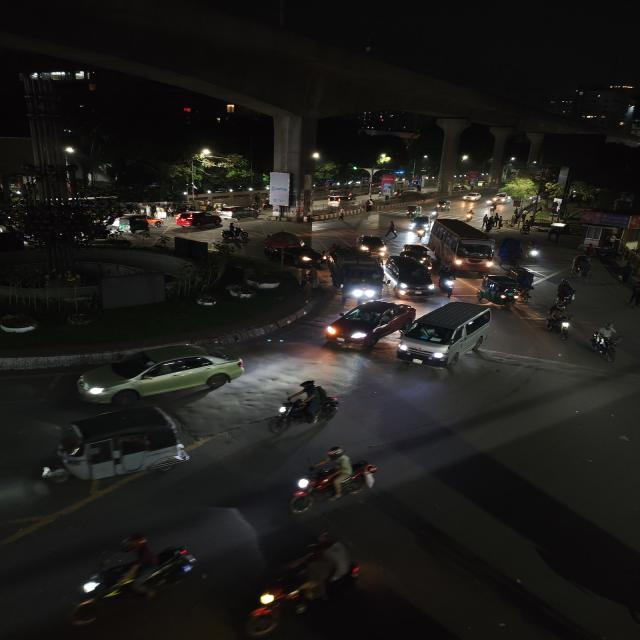bicycle: (589, 324, 623, 364)
bus: (430, 218, 497, 274)
car: (68, 341, 249, 409), (394, 300, 494, 370), (321, 298, 417, 352), (382, 255, 437, 299), (174, 210, 222, 230), (286, 249, 324, 269), (357, 233, 389, 255), (220, 205, 260, 220), (326, 192, 357, 206), (462, 192, 484, 202), (493, 192, 510, 204)
cng: (37, 404, 194, 488), (476, 276, 523, 310), (114, 214, 154, 235), (403, 204, 423, 218), (435, 198, 452, 212)
motorcycle: (240, 532, 366, 636), (64, 532, 201, 622), (286, 445, 384, 516), (266, 376, 344, 436), (590, 324, 624, 364), (543, 304, 575, 342), (258, 324, 292, 350), (221, 224, 252, 246), (524, 238, 545, 264), (411, 225, 429, 243), (462, 205, 476, 221)
pedestrian: (554, 279, 578, 308), (570, 255, 595, 281), (617, 261, 636, 285), (626, 279, 640, 310), (383, 220, 401, 238), (336, 206, 350, 224), (511, 208, 523, 228), (520, 217, 532, 235), (511, 198, 523, 212), (481, 214, 488, 229)
truck: (325, 246, 388, 302)
